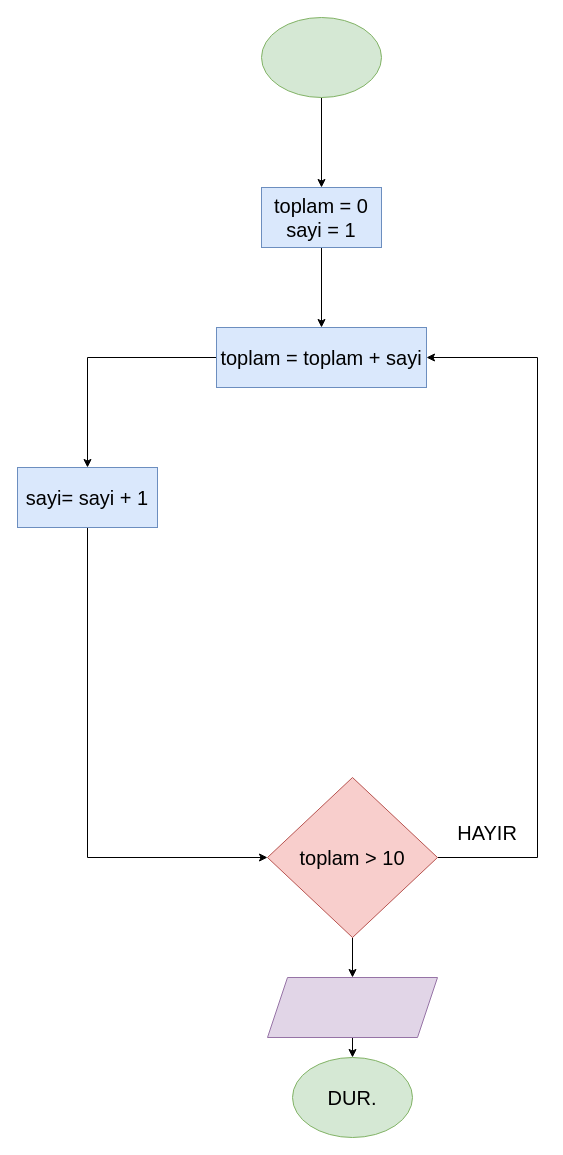
Image size: 563x1155. Some labels were removed from this diagram. Here are the shapes that lost their labels. From the top down, the centre of each, then its label:
At pixel 321 57: "BAŞLA.".
At pixel 352 1007: "Yaz toplam".
